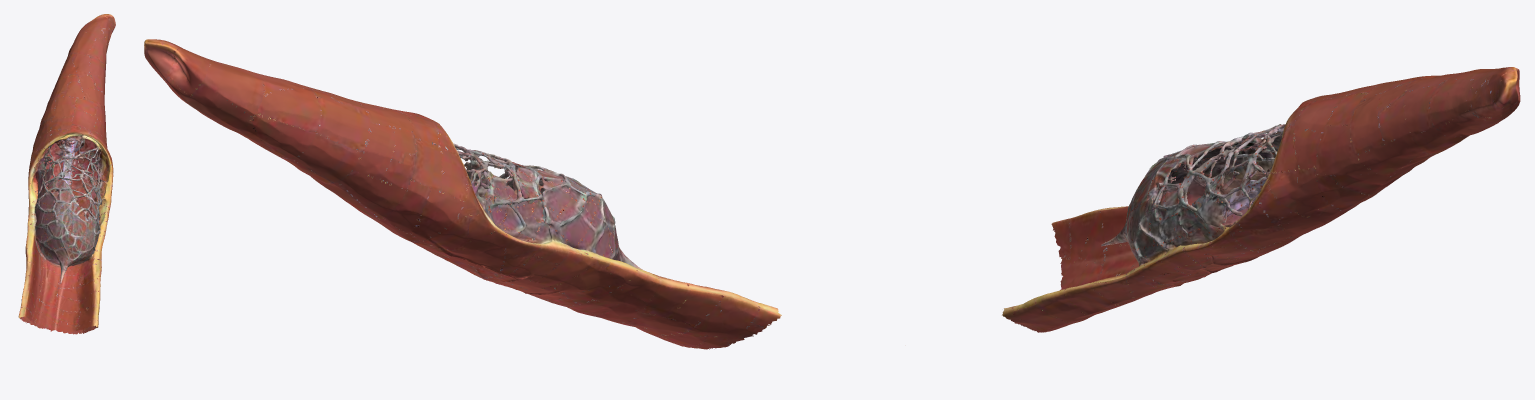
File: treatment.glb
The picture shows the model from 3 angles, left to right: view 1: azimuth 30°, elevation 25°; view 2: azimuth 150°, elevation 25°; view 3: azimuth 270°, elevation 25°; orthographic projection. The views are drawn at different scales.
Parts seen in each view (by area): view 1: Treatment; view 2: Treatment; view 3: Treatment.
Part boxes in pixels (x1=…): Treatment: x1=18, y1=14, x2=115, y2=334; Treatment: x1=144, y1=39, x2=781, y2=349; Treatment: x1=1002, y1=67, x2=1520, y2=332.
Bounding box in the file's own units: 1.87 × 1.57 × 1.97.
1 material, 1 textured.
